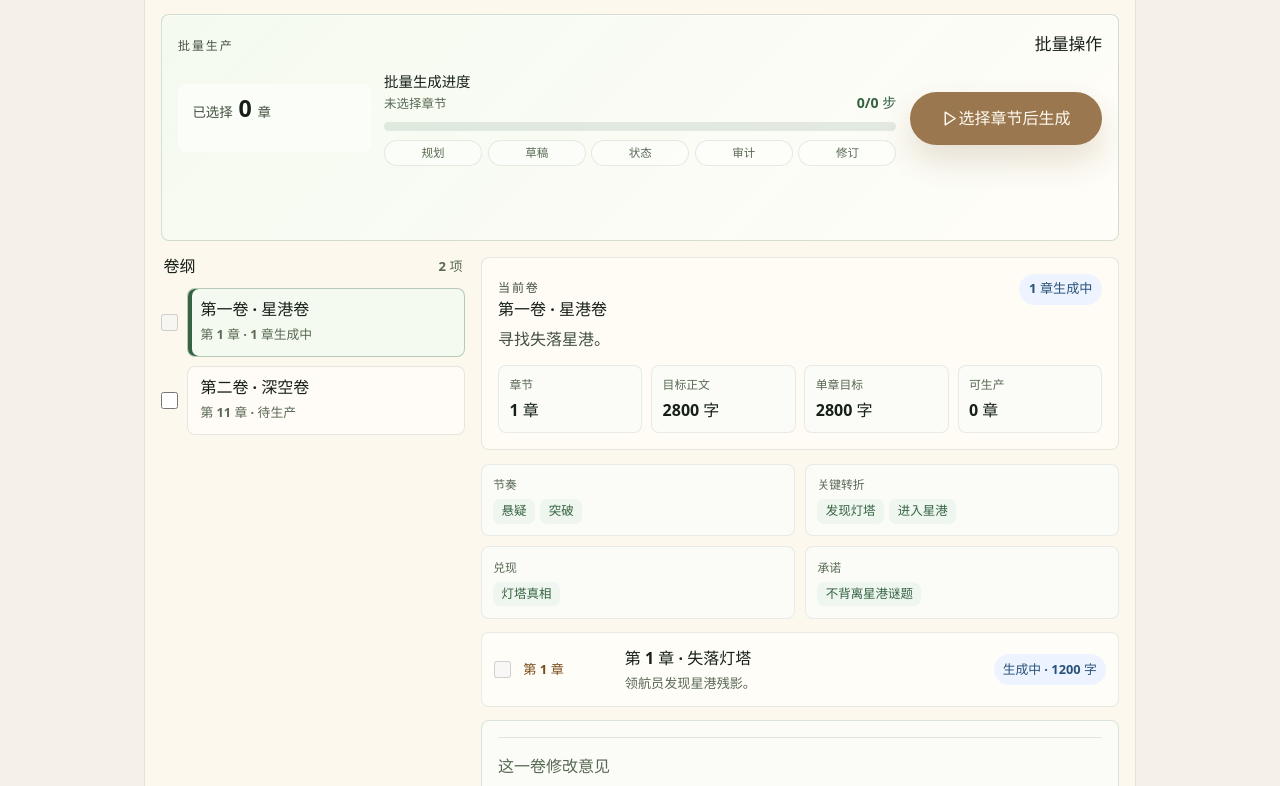
it: chapter tab switches selected volume before showing its chapters
(page scrolled)
Expected: the link "第 11 章 · 深空裂缝" is not shown
What coordinates should you click on to do the following:
click the button "第二卷 · 深空卷 第 11 章 · 待生产"
I would click on:
 (255, 387)
Its box is [187,366,465,435].
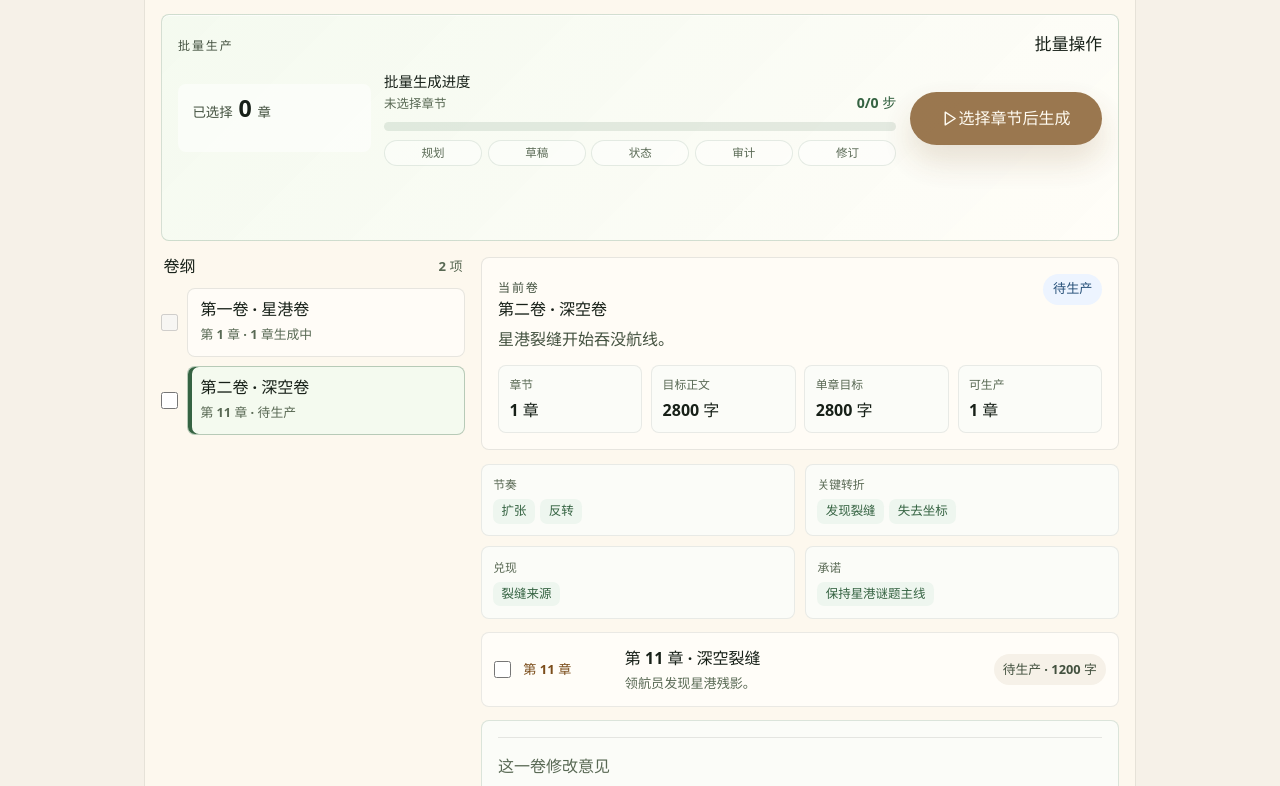
Now the link "第 1 章 · 失落灯塔" is gone
